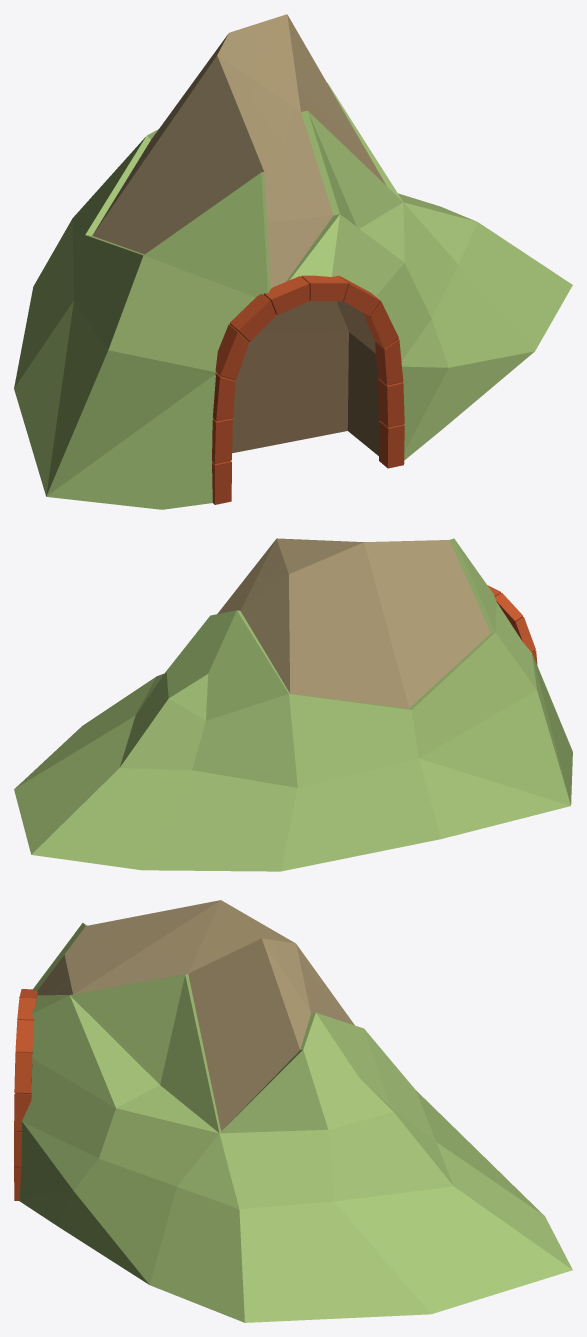
The model's file is mountain2.FBX.
The picture shows the model from 3 angles, top to bottom: view 1: azimuth 30°, elevation 25°; view 2: azimuth 150°, elevation 25°; view 3: azimuth 270°, elevation 25°; orthographic projection. The views are drawn at different scales.
Parts seen in each view (by area): view 1: Plane003; view 2: Plane003; view 3: Plane003.
Part boxes in pixels (x1=…): Plane003: x1=14, y1=14, x2=572, y2=509; Plane003: x1=14, y1=538, x2=572, y2=871; Plane003: x1=14, y1=900, x2=572, y2=1322.
Size of the model in its own units: 41.35 by 22.87 by 40.54.
Materials: 1 (1 with a texture image).
